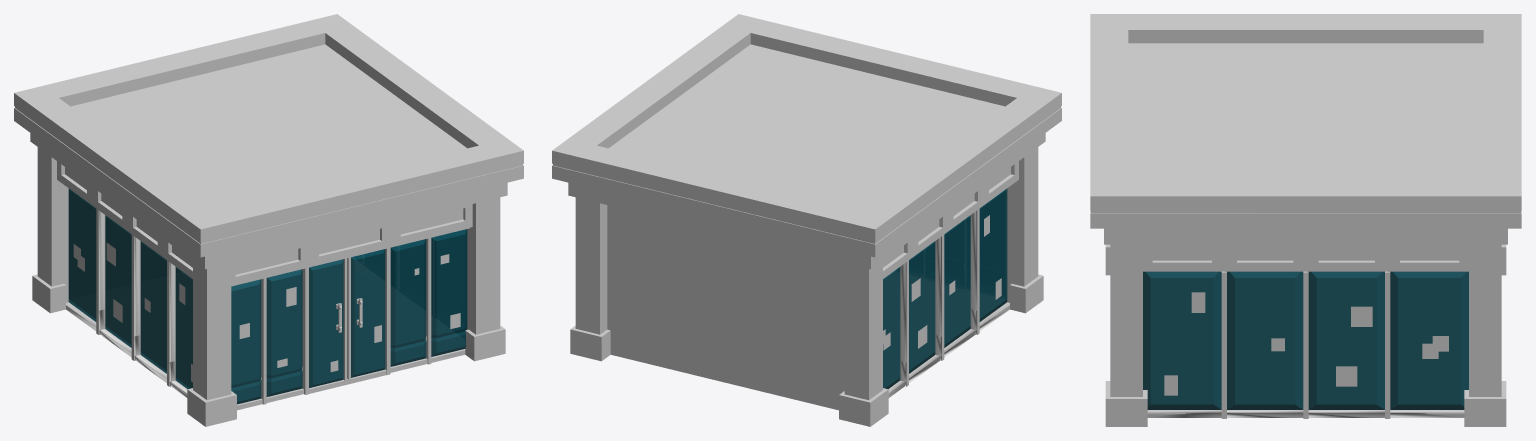
Rendered from shop_05_small.fbx.
3 views of the same model, side by side, from view 1: azimuth 30°, elevation 25°; view 2: azimuth 150°, elevation 25°; view 3: azimuth 270°, elevation 25° (orthographic). The views are drawn at different scales.
Parts seen in each view (by area): view 1: shop_05_small, shop_05_glass_small; view 2: shop_05_small, shop_05_glass_small; view 3: shop_05_small, shop_05_glass_small.
Part boxes in pixels (x1,y1,x2,y2): shop_05_small: (14, 14, 523, 426); shop_05_glass_small: (68, 188, 467, 404); shop_05_small: (552, 14, 1061, 426); shop_05_glass_small: (883, 188, 1007, 388); shop_05_small: (1090, 14, 1521, 426); shop_05_glass_small: (1143, 271, 1468, 409).
Size of the model in its own units: 661 by 402 by 661.
